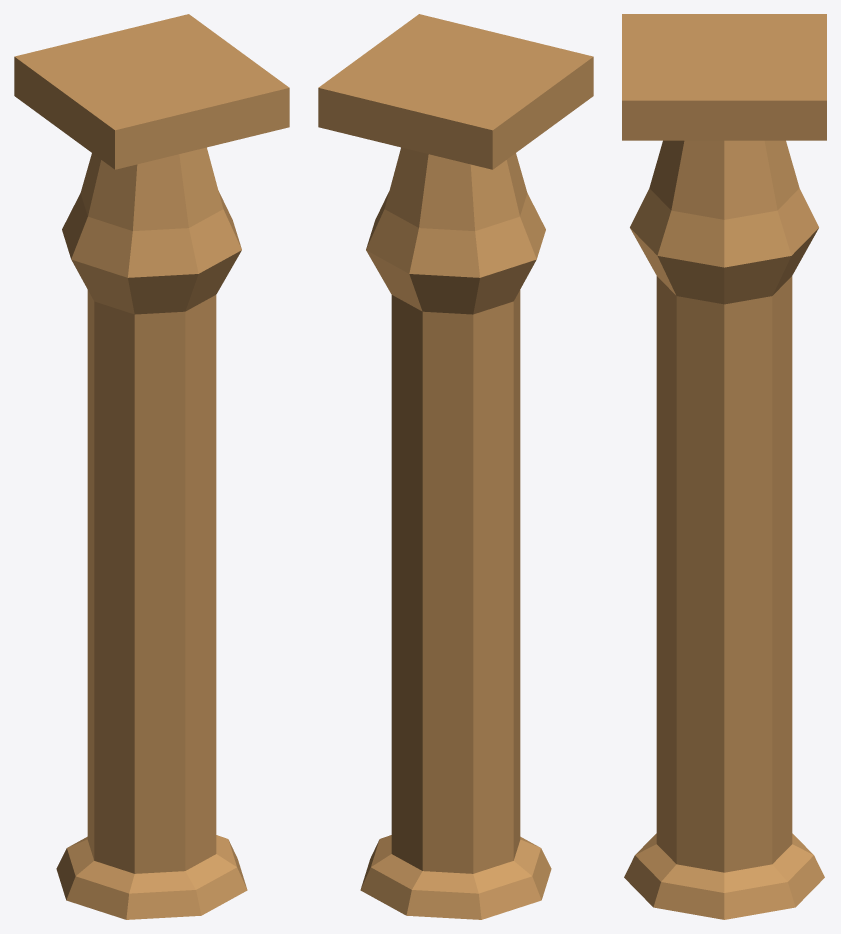
Rendered from egypt_egypt-pillar-tent-pole.fbx.
3 views of the same model, side by side, from view 1: azimuth 30°, elevation 25°; view 2: azimuth 150°, elevation 25°; view 3: azimuth 270°, elevation 25° (orthographic).
Visible parts, largest first — view 1: egypt_egypt_pillar_tent_pole; view 2: egypt_egypt_pillar_tent_pole; view 3: egypt_egypt_pillar_tent_pole.
Part boxes in pixels (x1=…): egypt_egypt_pillar_tent_pole: x1=14, y1=14, x2=289, y2=919; egypt_egypt_pillar_tent_pole: x1=318, y1=14, x2=593, y2=919; egypt_egypt_pillar_tent_pole: x1=622, y1=14, x2=826, y2=919.
Bounding box in the file's own units: 45.25 × 200 × 45.27.
